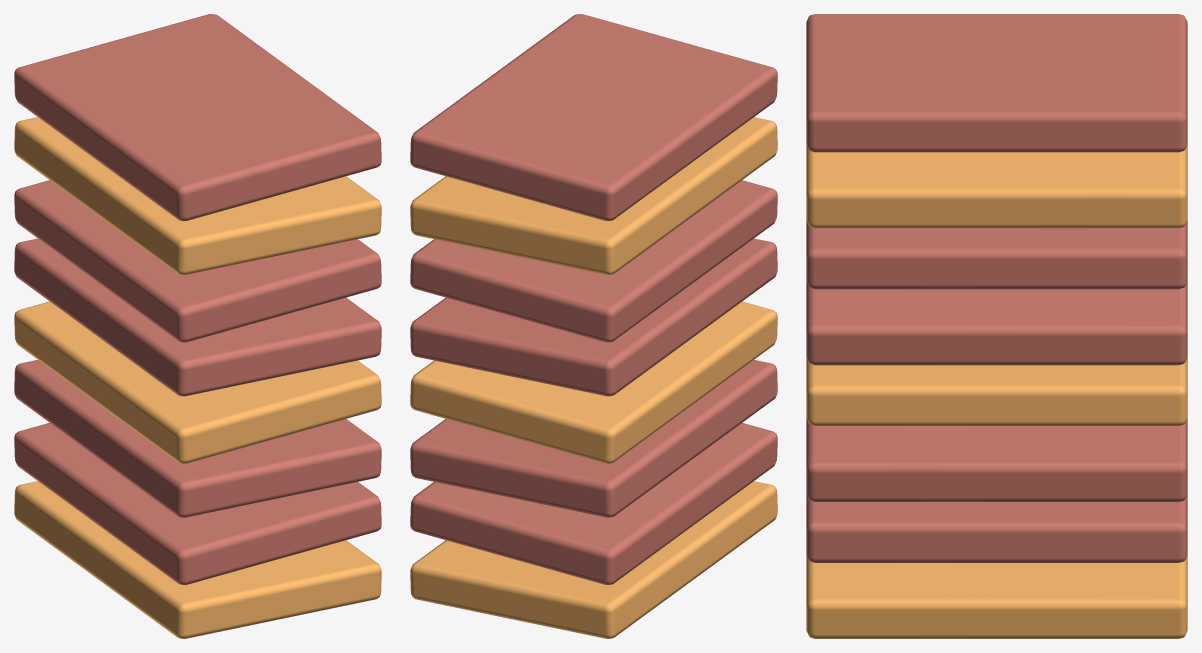
File: att_grip_wrap.glb
3 views of the same model, side by side, from view 1: azimuth 30°, elevation 25°; view 2: azimuth 150°, elevation 25°; view 3: azimuth 270°, elevation 25° (orthographic). The views are drawn at different scales.
Parts seen in each view (by area): view 1: GripWrap; view 2: GripWrap; view 3: GripWrap.
Part boxes in pixels (<box>): GripWrap: <box>14,14,381,638</box>; GripWrap: <box>410,14,777,638</box>; GripWrap: <box>806,14,1187,638</box>.
Bounding box in the file's own units: 0.0371 × 0.0809 × 0.053.
